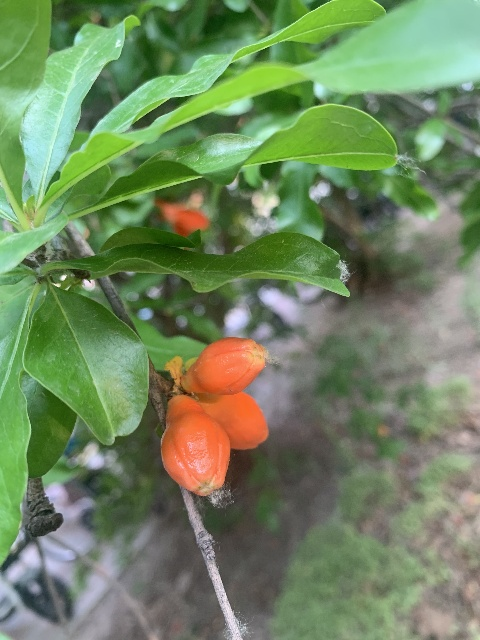bud: (160, 396, 229, 496), (184, 336, 266, 395), (193, 391, 268, 450)
